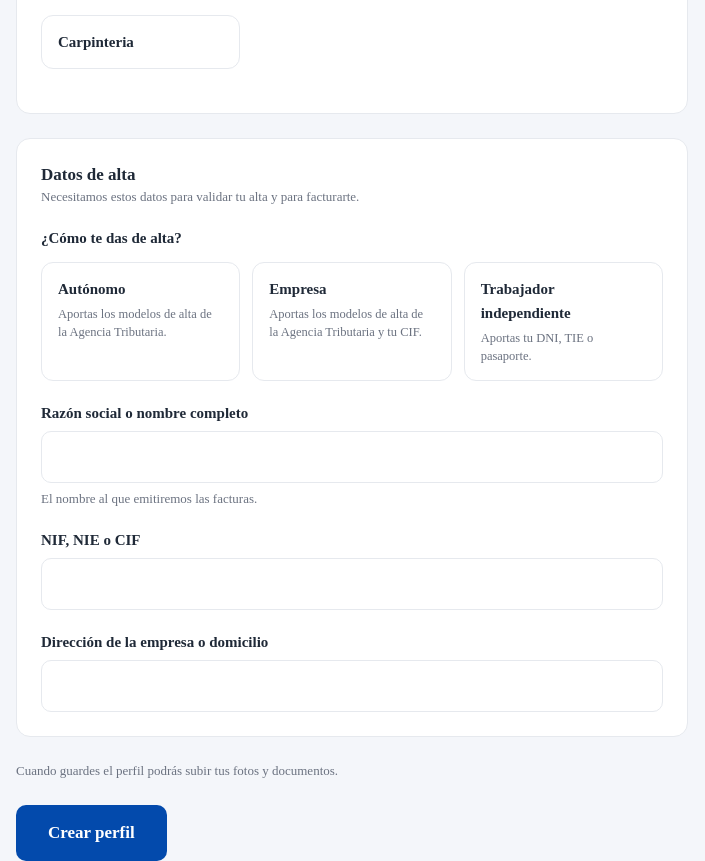
ProfileForm: errores al guardar › announces a failed save once, not once per field
This screenshot has width=705, height=861.
(page scrolled)
What coordinates should you click on to do the following:
click the button "Crear perfil"
I would click on:
 (91, 832)
Its box is [16,804,167,860].
(page scrolled)
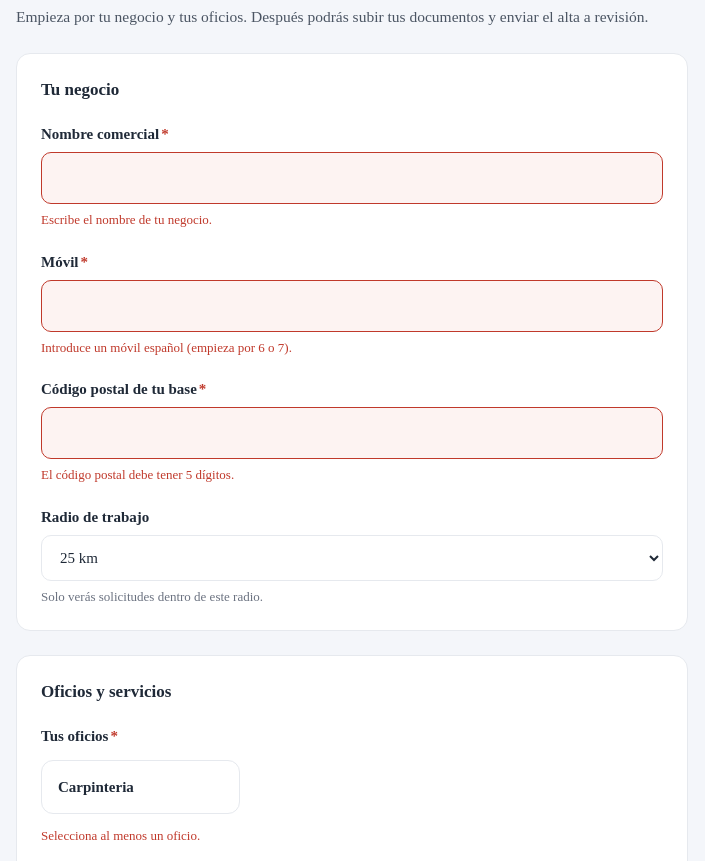
Expected: the text "Escribe el nombre de tu negocio." is shown, [41,212,212,227]
